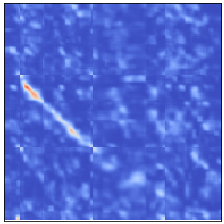action_path: (16, 75, 91, 149)
